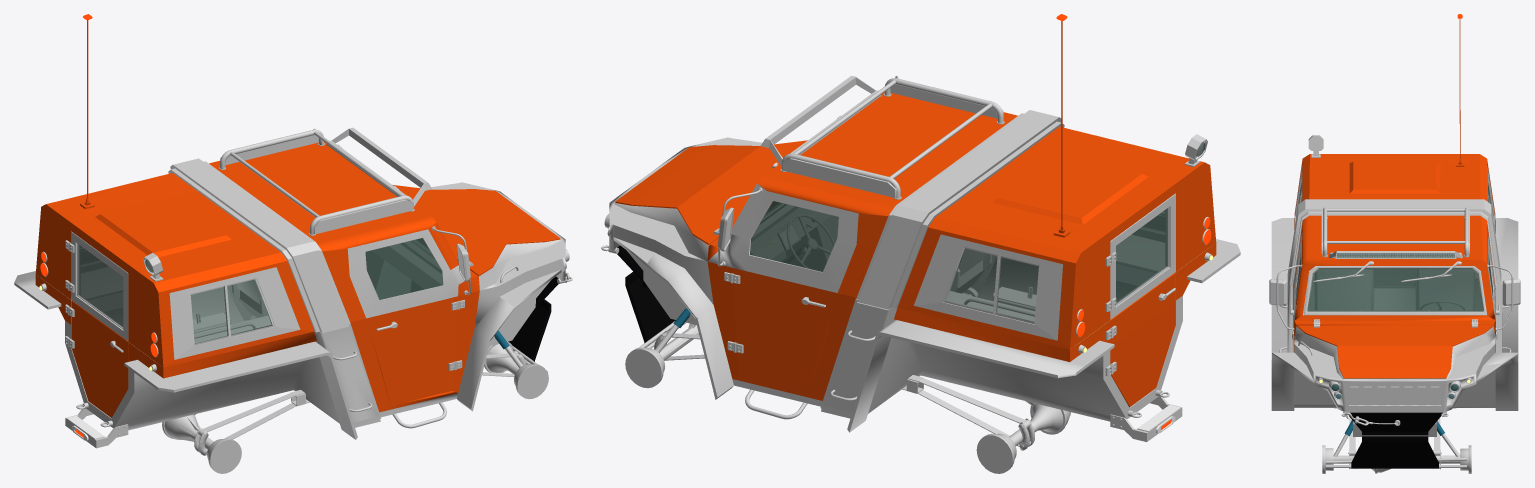
The model's file is Base Mesh_RC Car_Body.fbx.
The picture shows the model from 3 angles, left to right: view 1: azimuth 30°, elevation 25°; view 2: azimuth 150°, elevation 25°; view 3: azimuth 270°, elevation 25°; orthographic projection. The views are drawn at different scales.
Visible parts, largest first — view 1: Body; view 2: Body; view 3: Body.
Part boxes in pixels (box(x1,y1,x2,y2)): Body: box(14, 14, 572, 473); Body: box(601, 14, 1240, 473); Body: box(1269, 14, 1520, 473).
Bounding box in the file's own units: 323 × 272 × 193.
